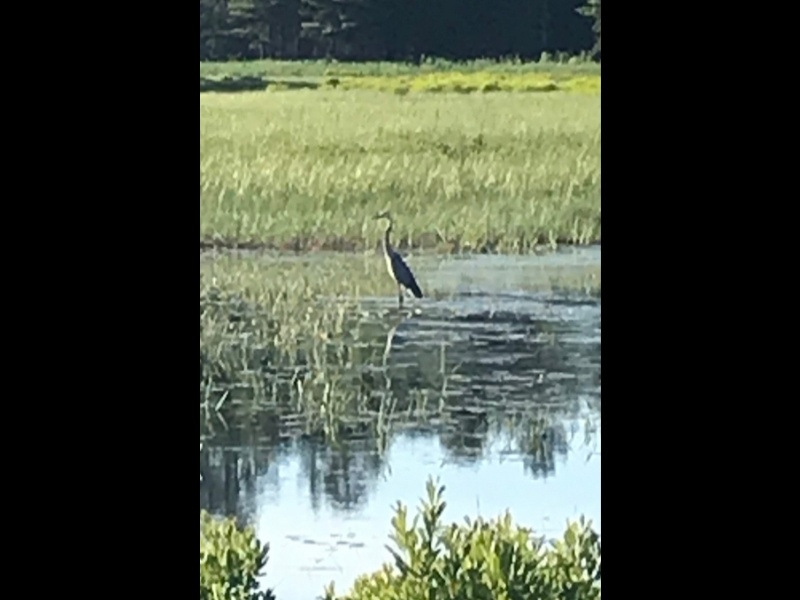heron: (374, 209, 424, 304)
